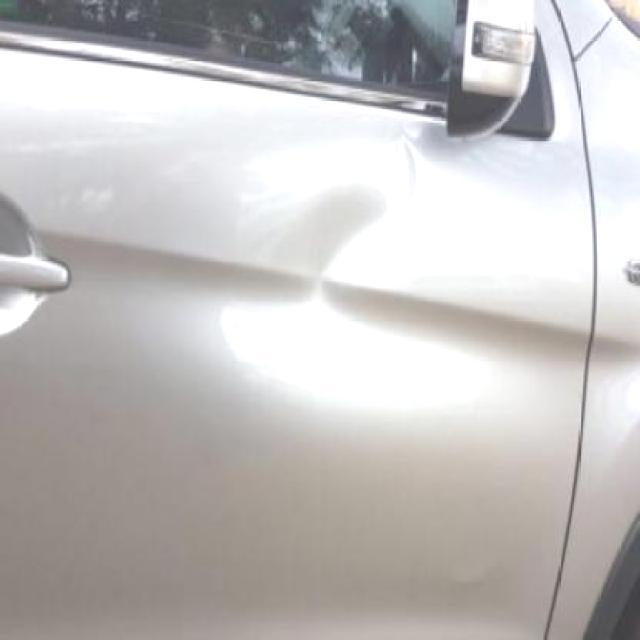minor: (220, 137, 535, 400)
